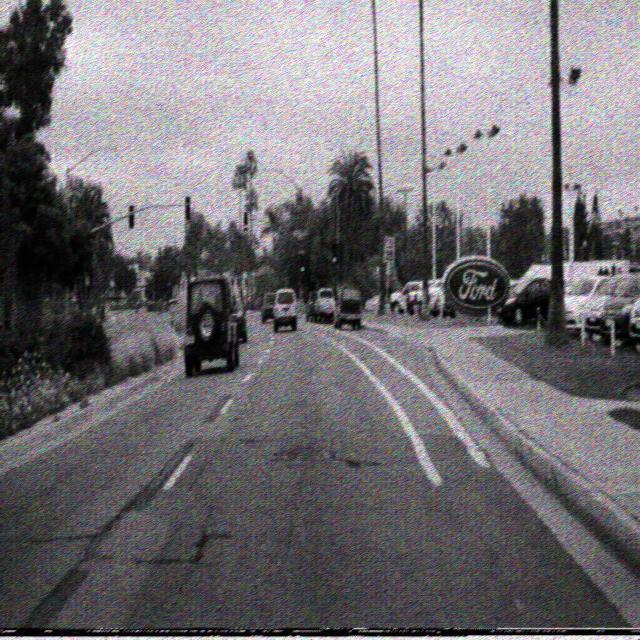speedLimit35: (383, 233, 395, 264)
